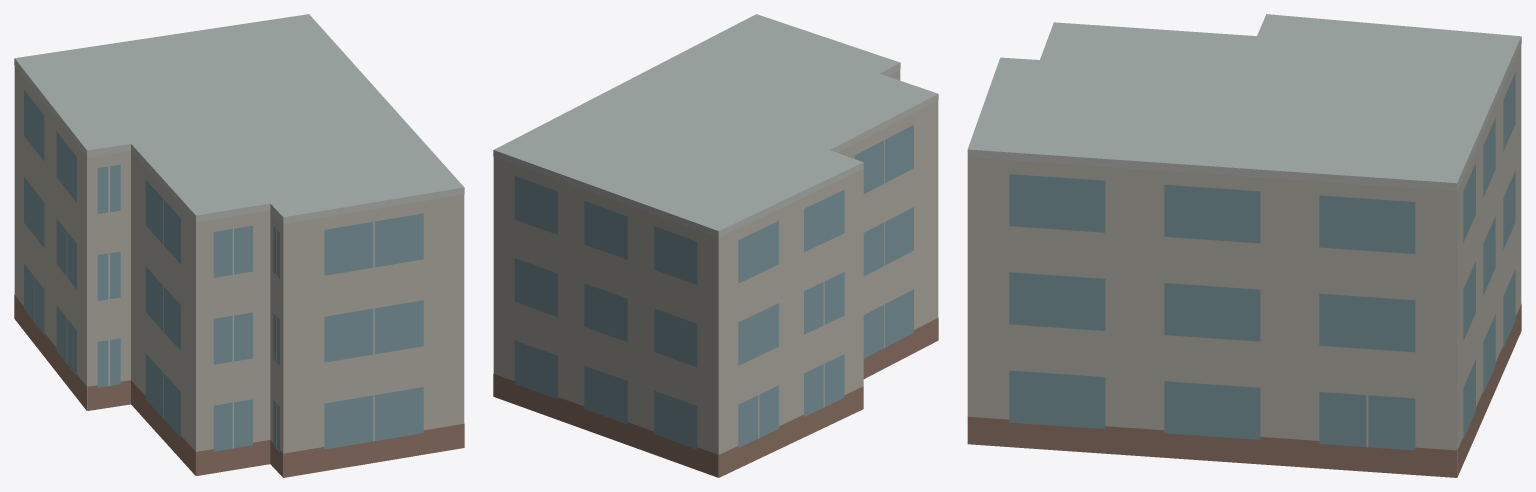
The model's file is survey-upis-33022701.glb.
3 renders of one model, left to right at view 1: azimuth 30°, elevation 25°; view 2: azimuth 150°, elevation 25°; view 3: azimuth 270°, elevation 25°, orthographic. The views are drawn at different scales.
Visible parts, largest first — view 1: survey-upis-33022701.tmp; view 2: survey-upis-33022701.tmp; view 3: survey-upis-33022701.tmp.
Part boxes in pixels (left/top/right/bottom): survey-upis-33022701.tmp: left=14, top=14, right=464, bottom=477; survey-upis-33022701.tmp: left=493, top=14, right=938, bottom=477; survey-upis-33022701.tmp: left=967, top=14, right=1521, bottom=477.
Size of the model in its own units: 11.27 by 9.15 by 15.6.
